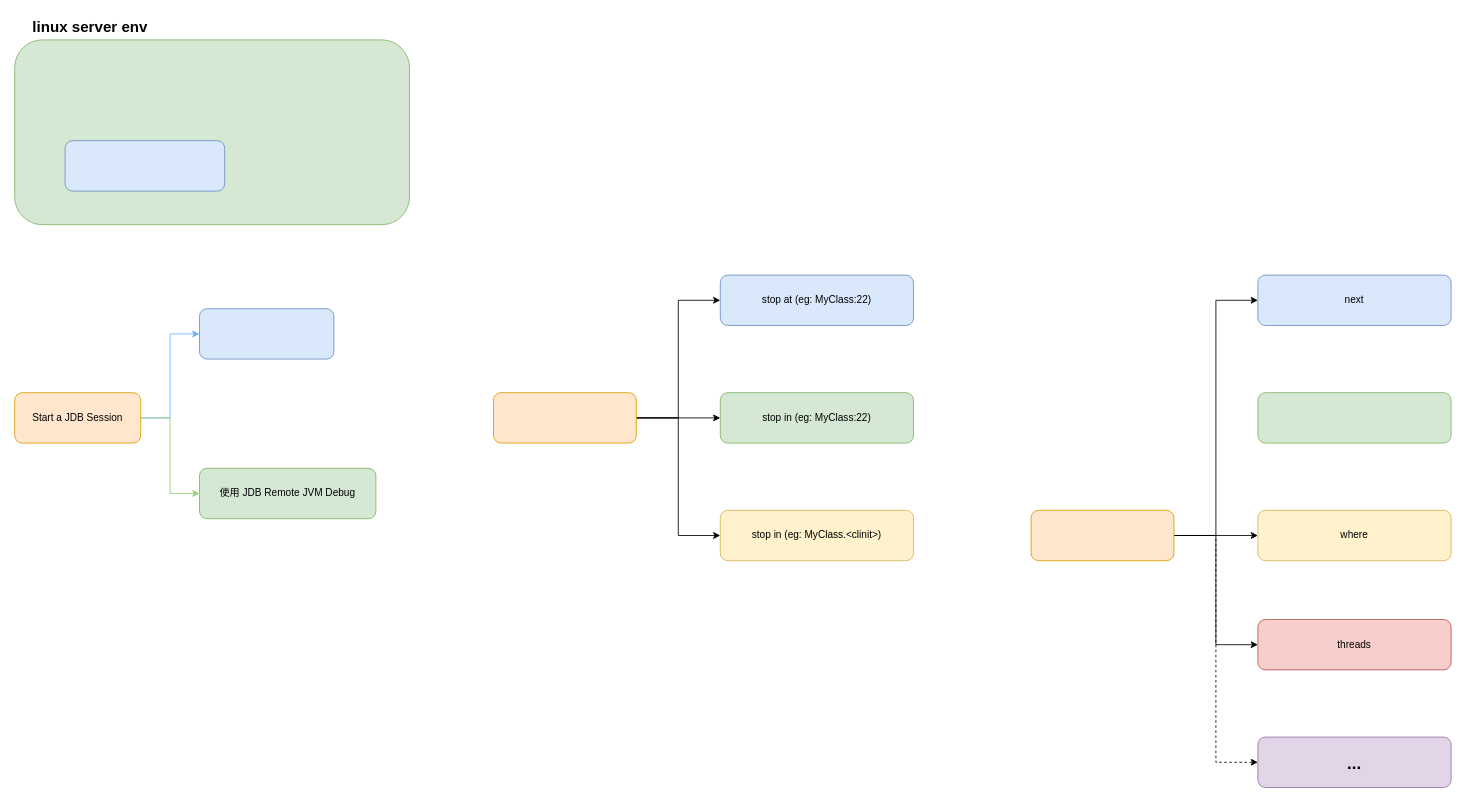
Image size: 1466x802. Some labels were removed from this diagram. The shapes that lost their labels are listed below. From the top down, each one's centre as x and y in pixels, then its label:
At point (144, 165): "my java service (JVM)".
At point (266, 333): "使用 JDB 替代 JAVA".
At point (564, 417): "Breakpoints".
At point (1354, 417): "step".
At point (1102, 535): "Debug Control".
